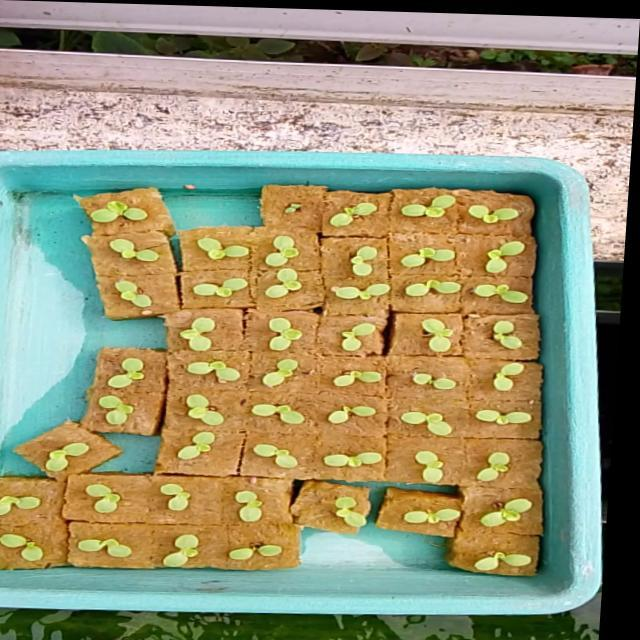Baby: (72, 426, 134, 470), (494, 449, 563, 484), (16, 525, 85, 560), (230, 264, 288, 295), (200, 389, 258, 420), (36, 492, 94, 523), (219, 352, 273, 383), (375, 314, 423, 347), (538, 309, 583, 344), (440, 361, 506, 384), (98, 529, 163, 552), (127, 389, 165, 425), (125, 192, 184, 215), (448, 183, 504, 207), (516, 276, 580, 297), (535, 232, 574, 266), (373, 191, 422, 218), (216, 311, 253, 346), (439, 408, 492, 432), (465, 310, 500, 346), (210, 426, 248, 458), (362, 399, 417, 421), (145, 231, 195, 255), (308, 311, 342, 346), (305, 260, 342, 292), (195, 530, 231, 562), (372, 275, 434, 293), (287, 399, 340, 420), (305, 229, 339, 261), (298, 353, 335, 382), (236, 227, 287, 248), (515, 194, 568, 214), (449, 271, 507, 289), (151, 273, 187, 302), (121, 478, 155, 508), (453, 447, 483, 479), (517, 406, 575, 422), (535, 358, 568, 386), (269, 487, 297, 519), (141, 350, 178, 374), (393, 237, 421, 268), (371, 365, 420, 382), (194, 479, 223, 507), (297, 440, 330, 464), (457, 239, 500, 254)
